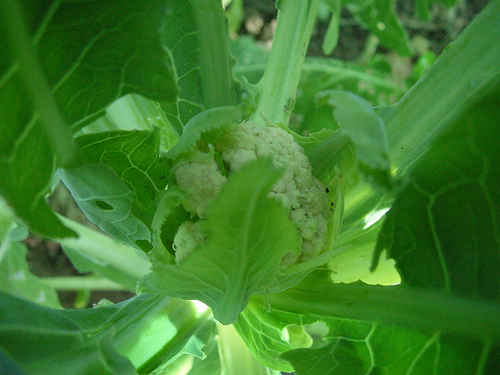cauliflower: (147, 107, 360, 325)
